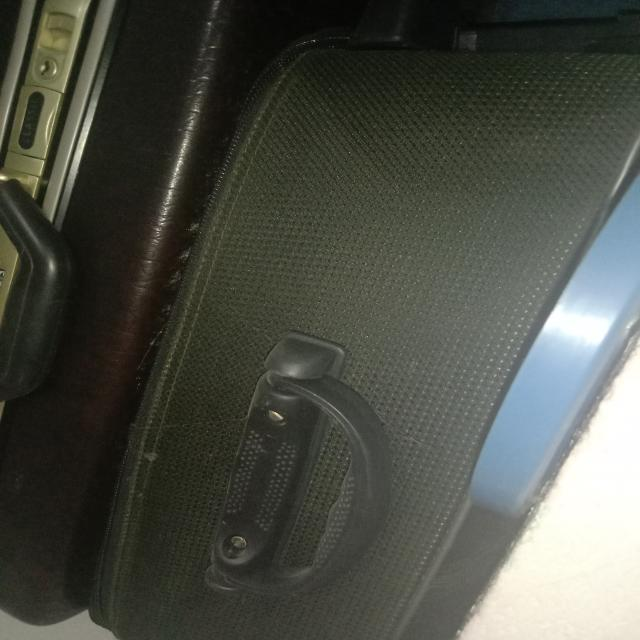suitcaserotation: (82, 3, 638, 640), (0, 0, 265, 628)
